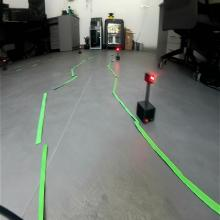red: (144, 71, 156, 84)
